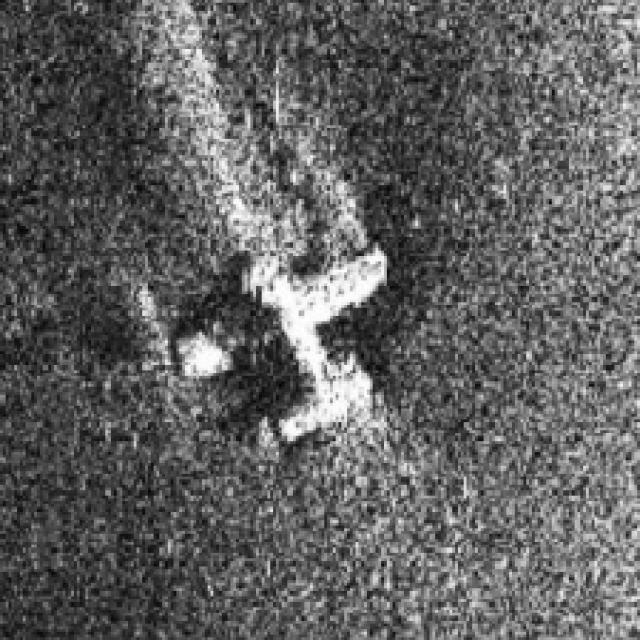plane: (151, 215, 452, 501)
